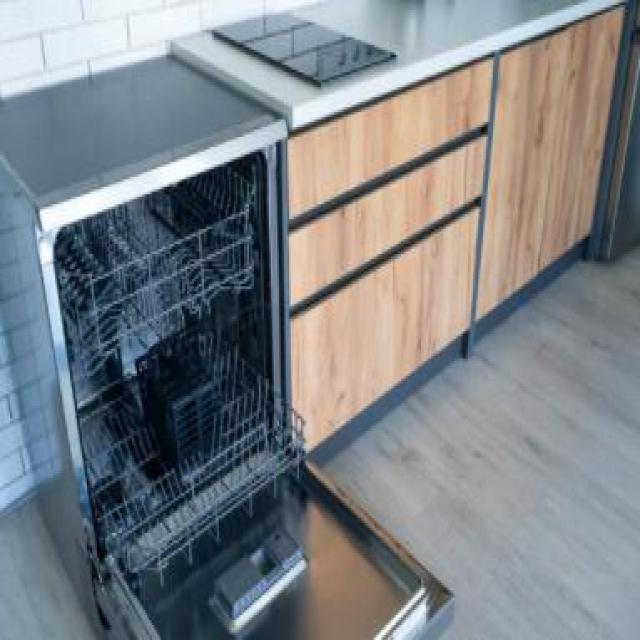dishwasher: (18, 120, 374, 638)
